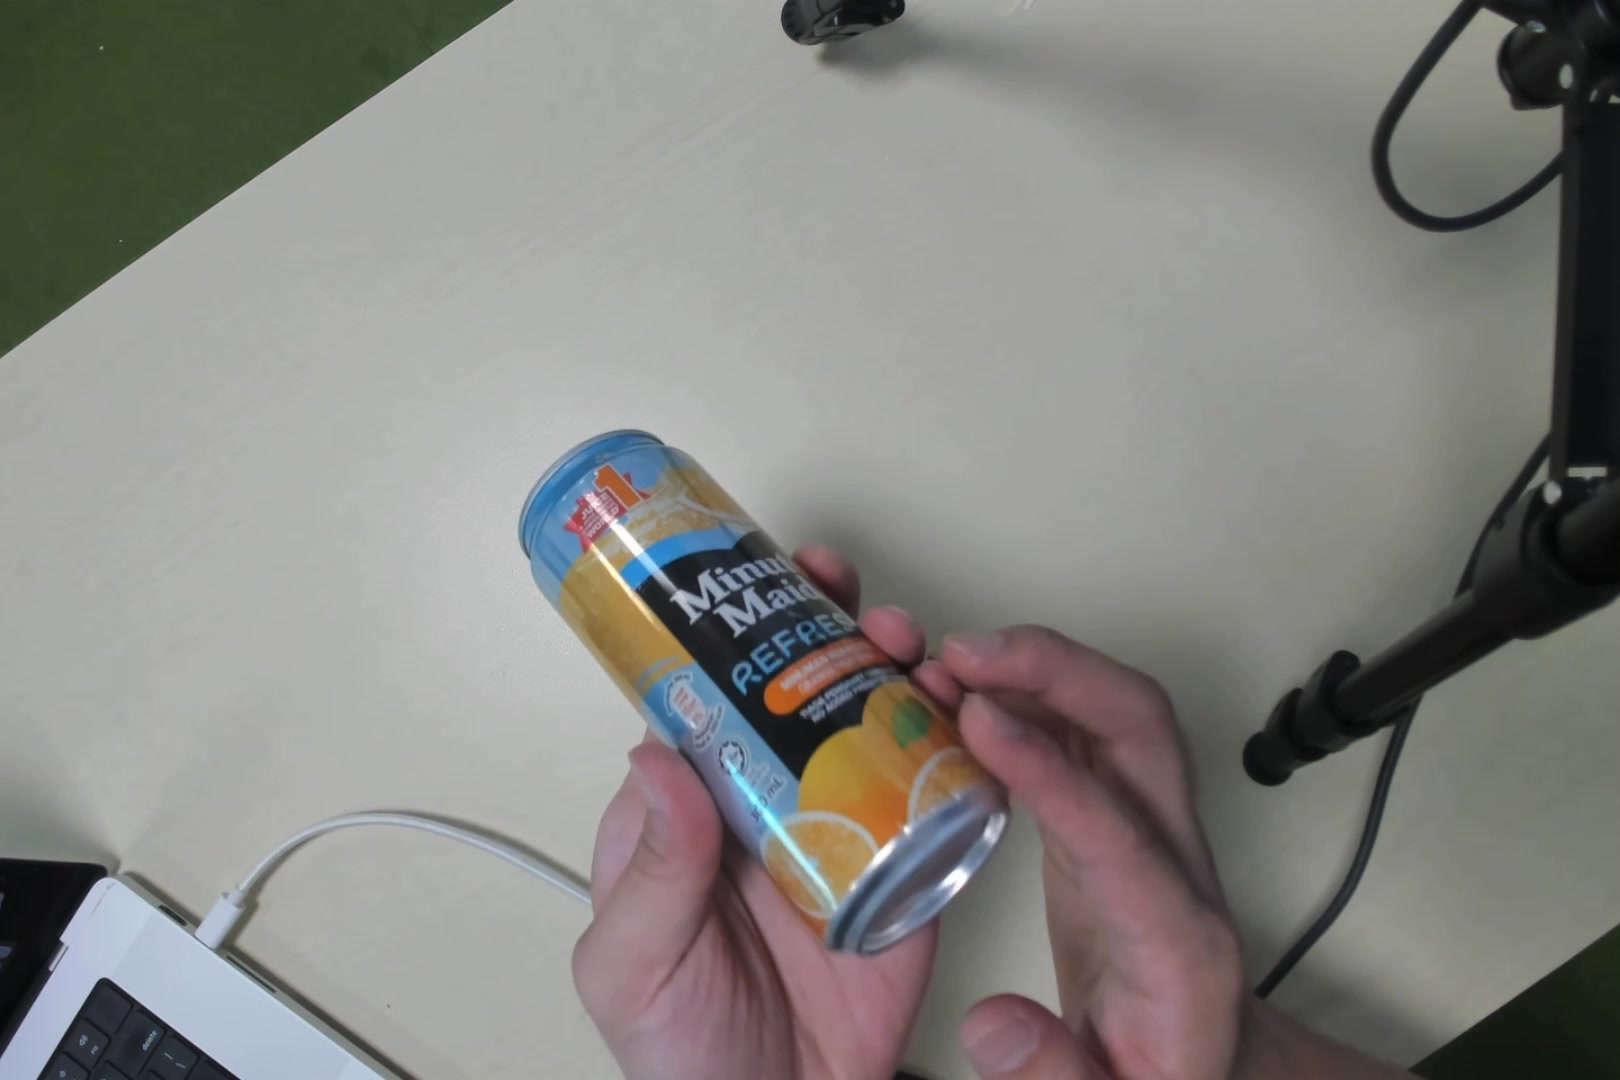SoftDrinks_200-299g_Halal_Healthy: (554, 410, 1000, 944)
